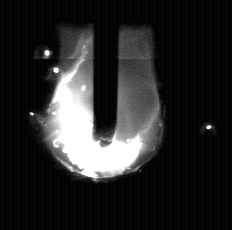arame: (95, 0, 119, 146)
poca: (45, 0, 165, 230)
